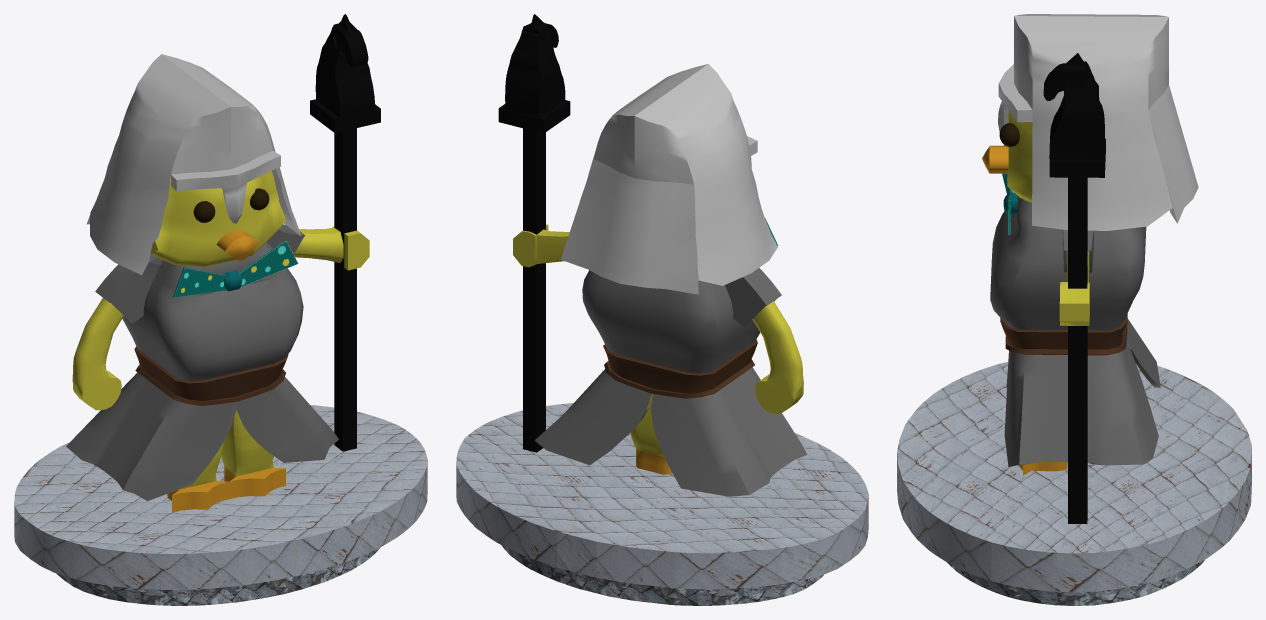
The model's file is knight.glb.
3 renders of one model, left to right at view 1: azimuth 30°, elevation 25°; view 2: azimuth 150°, elevation 25°; view 3: azimuth 270°, elevation 25°, orthographic. The views are drawn at different scales.
Visible parts, largest first — view 1: top_of_platform, chest_armor, helmet1, staff_handle1, face, bottom_of_platform, right_arm, body_of_horse, left_leg, right_leg, left_arm, left_tie (+4 smaller); view 2: top_of_platform, chest_armor, helmet1, staff_handle1, bottom_of_platform, body_of_horse, right_arm, left_leg, left_arm; view 3: top_of_platform, chest_armor, helmet1, staff_handle1, body_of_horse, bottom_of_platform, face, left_hand, nose, front_face, back_face.
Part boxes in pixels (x1,y1,x2,y2): top_of_platform: (14, 405, 427, 589); chest_armor: (66, 224, 338, 501); helmet1: (86, 54, 301, 275); staff_handle1: (310, 99, 380, 451); face: (150, 171, 285, 267); bottom_of_platform: (56, 547, 380, 605); right_arm: (72, 298, 123, 410); body_of_horse: (315, 27, 374, 118); left_leg: (221, 409, 285, 499); right_leg: (167, 442, 228, 512); left_arm: (294, 226, 343, 263); left_tie: (239, 240, 298, 287); top_of_platform: (456, 403, 868, 589); chest_armor: (535, 268, 807, 496); helmet1: (561, 64, 777, 294); staff_handle1: (498, 100, 570, 452); bottom_of_platform: (501, 545, 823, 605); body_of_horse: (505, 30, 565, 117); right_arm: (752, 301, 803, 413); left_leg: (630, 393, 671, 474); left_arm: (521, 229, 569, 267); top_of_platform: (897, 362, 1251, 592); chest_armor: (990, 196, 1160, 466); helmet1: (998, 14, 1198, 230); staff_handle1: (1049, 138, 1105, 523); body_of_horse: (1049, 65, 1104, 159); bottom_of_platform: (947, 560, 1204, 605); face: (1007, 110, 1032, 202); left_hand: (1059, 282, 1089, 325); nose: (982, 145, 1008, 173); front_face: (1043, 63, 1066, 100); back_face: (1064, 53, 1088, 92).
Bounding box in the file's own units: 24.3 × 30.7 × 18.31.
Materials: 14 (4 with a texture image).
